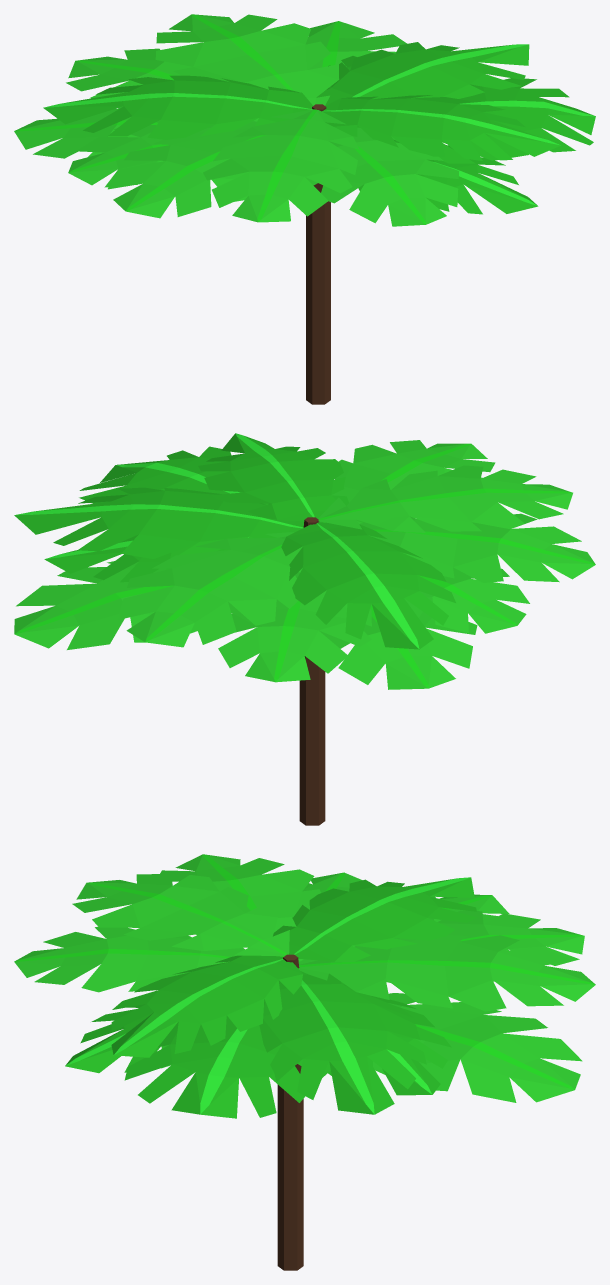
File: Tree2_bw.fbx
3 renders of one model, top to bottom at view 1: azimuth 30°, elevation 25°; view 2: azimuth 150°, elevation 25°; view 3: azimuth 270°, elevation 25°, orthographic. The views are drawn at different scales.
Visible parts, largest first — view 1: tree2; view 2: tree2; view 3: tree2.
Part boxes in pixels (bbox=[...]): tree2: bbox=[14, 14, 595, 404]; tree2: bbox=[14, 433, 595, 825]; tree2: bbox=[14, 854, 595, 1270].
Bounding box in the file's own units: 9169 × 5430 × 9037.
